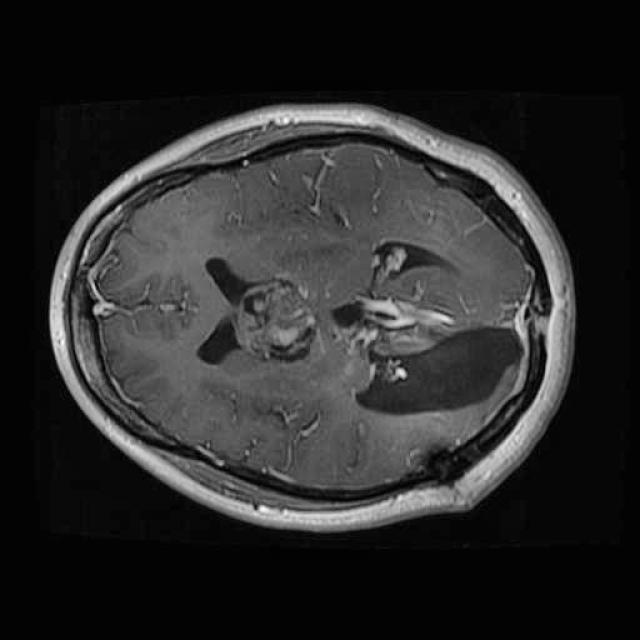Tumor: (319, 276, 532, 436)
